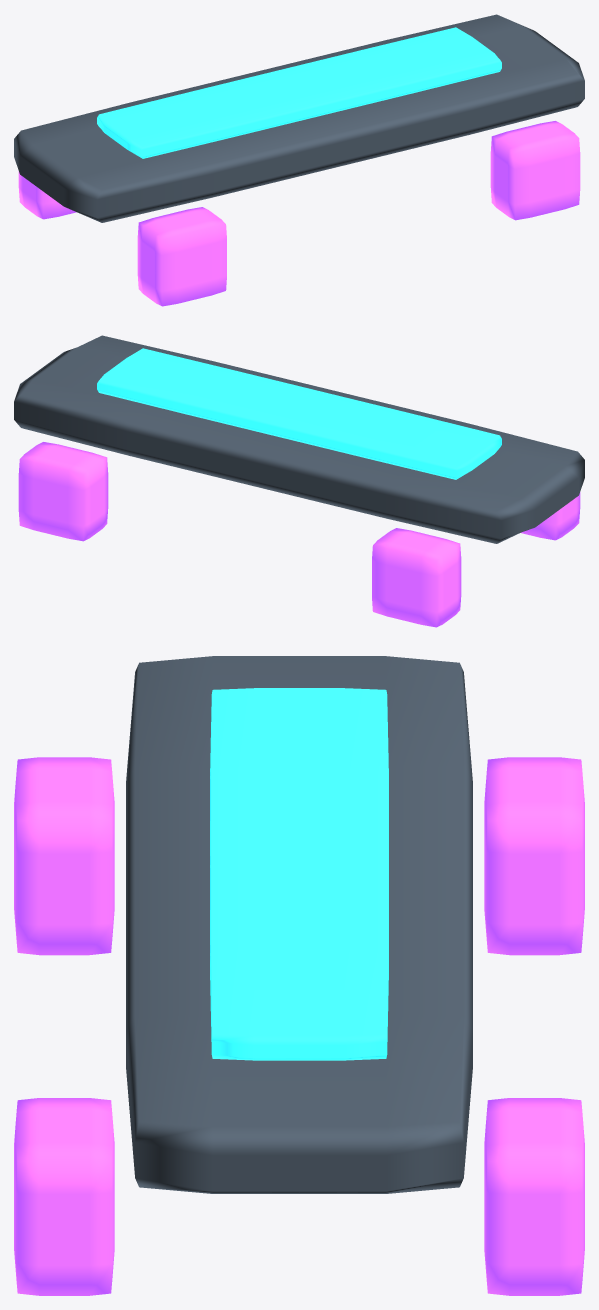
The model's file is skateboard-byte.glb.
The picture shows the model from 3 angles, top to bottom: view 1: azimuth 30°, elevation 25°; view 2: azimuth 150°, elevation 25°; view 3: azimuth 270°, elevation 25°; orthographic projection. The views are drawn at different scales.
Visible parts, largest first — view 1: Deck, Stripe, Wheel2, Wheel1, Wheel3; view 2: Deck, Stripe, Wheel4, Wheel3, Wheel1; view 3: Deck, Stripe, Wheel1, Wheel3, Wheel2, Wheel4.
Part boxes in pixels (x1,y1,x2,y2): Deck: (14,14,584,222); Stripe: (97,27,501,158); Wheel2: (490,121,580,220); Wheel1: (137,207,226,306); Wheel3: (18,171,76,219); Deck: (14,335,584,543); Stripe: (97,348,501,479); Wheel4: (18,442,108,541); Wheel3: (372,528,461,627); Wheel1: (521,492,580,540); Deck: (126,656,472,1193); Stripe: (210,688,388,1060); Wheel1: (14,757,114,955); Wheel3: (484,757,584,955); Wheel2: (14,1098,114,1295); Wheel4: (484,1098,584,1295).
Size of the model in its own units: 2.1 by 0.465 by 1.02.
